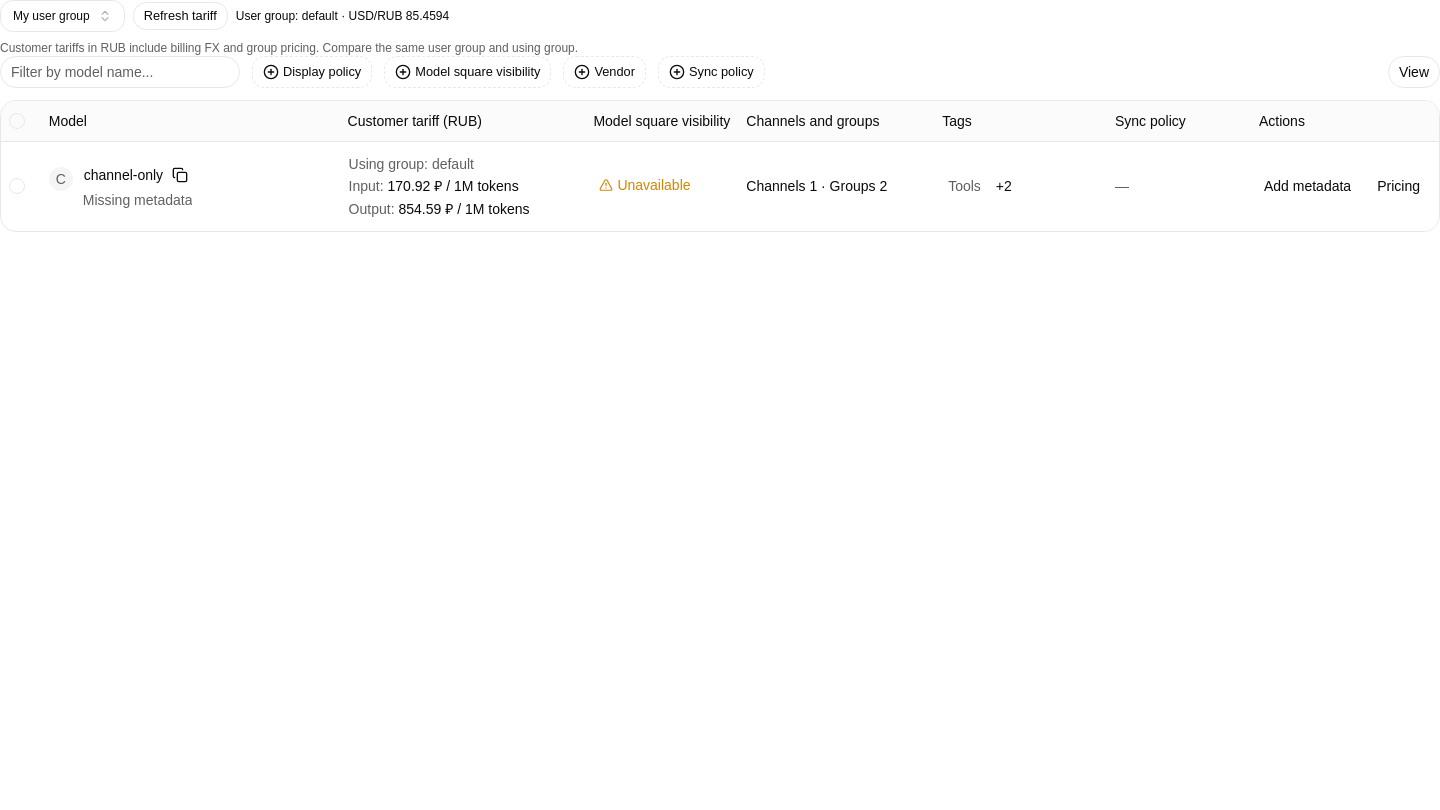
Scenario: keeps all columns while collapsing tags and connection counts
Expected: the button "channel-only" is shown, [83, 164, 164, 186]
Expected: the text "Channels 1 · Groups 2" is shown, [746, 178, 887, 194]
Click the button named "Show all tags": (1004, 186) [991, 174, 1017, 198]
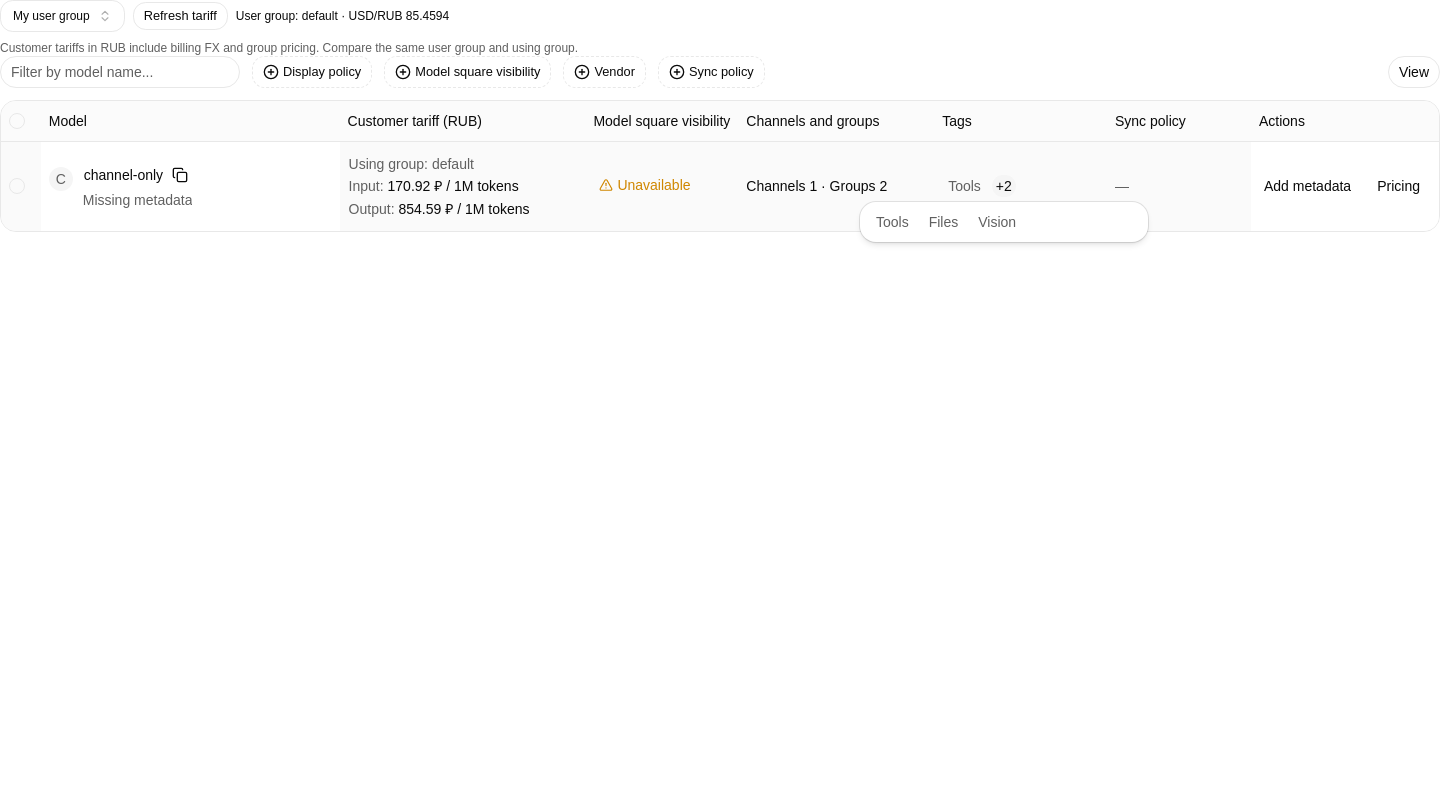
Expected: the text "Files" is shown, [929, 212, 958, 232]
Expected: the text "Vision" is shown, [978, 212, 1016, 232]
